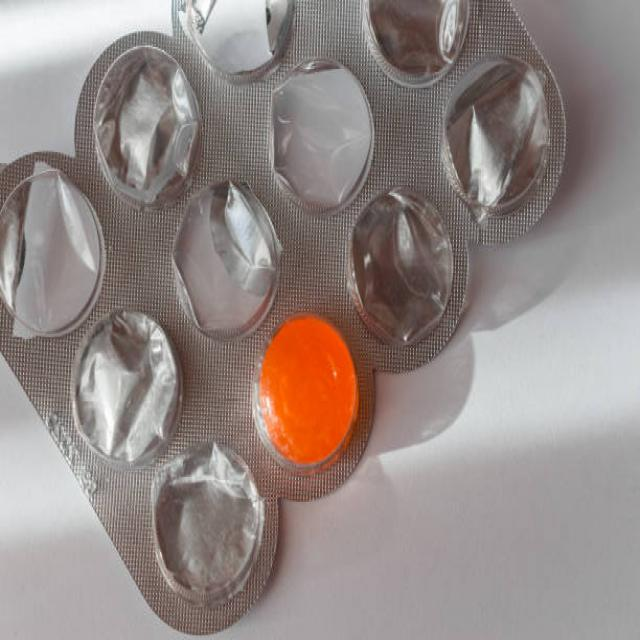Empty: (150, 433, 264, 599), (67, 308, 186, 465), (440, 64, 556, 215), (347, 188, 454, 351), (0, 169, 106, 329), (261, 72, 387, 206), (173, 184, 281, 322), (95, 54, 193, 206), (168, 0, 320, 78), (357, 0, 478, 82)
Pill: (255, 319, 365, 468)
